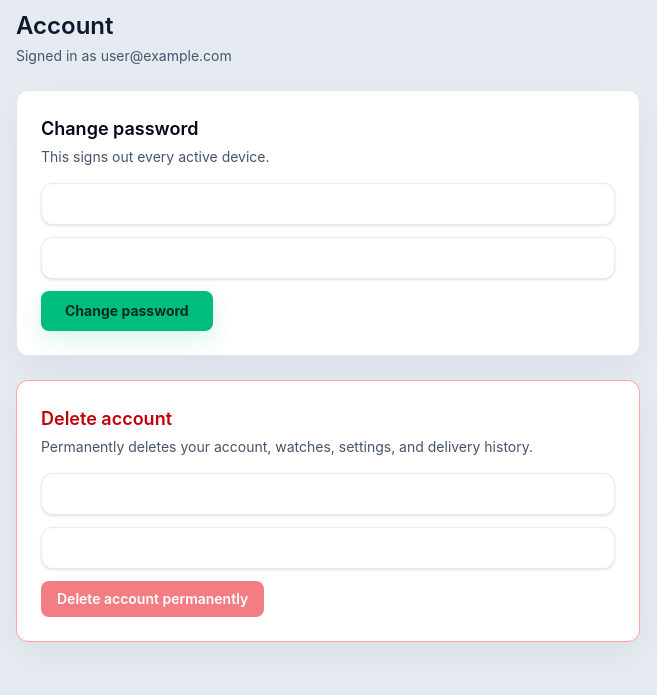
Test case: AccountSettings › falls back to a generic error for non-Axios failures without navigating
The image size is (657, 695).
Type "password123" into the password field named "Current password".
click(328, 204); type("password123")  # box top-left (41, 183), bottom-right (615, 225)
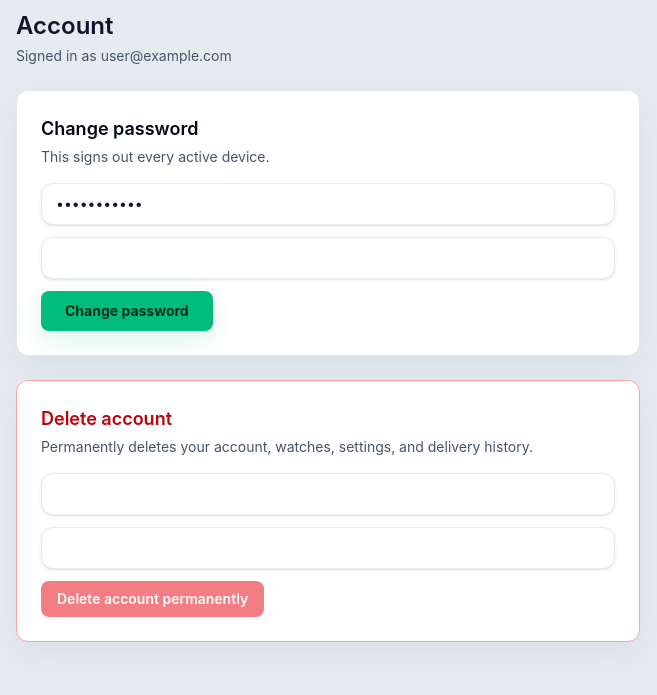
Type "new-password-123" into the password field named "New password".
click(328, 258); type("new-password-123")  # box top-left (41, 237), bottom-right (615, 279)
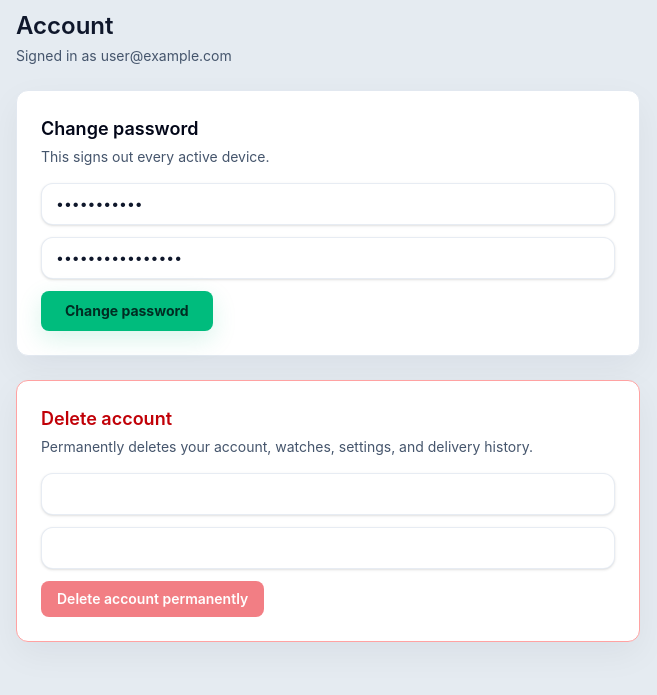
Click the button "Change password".
click(127, 311)  # box top-left (41, 291), bottom-right (213, 331)
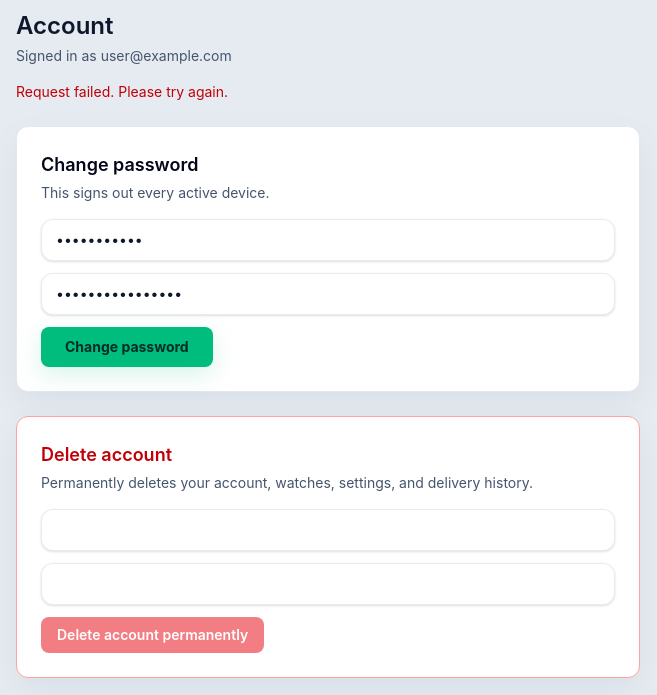
Check: the message reads "Request failed. Please try again.", box top-left (16, 83), bottom-right (228, 100)
